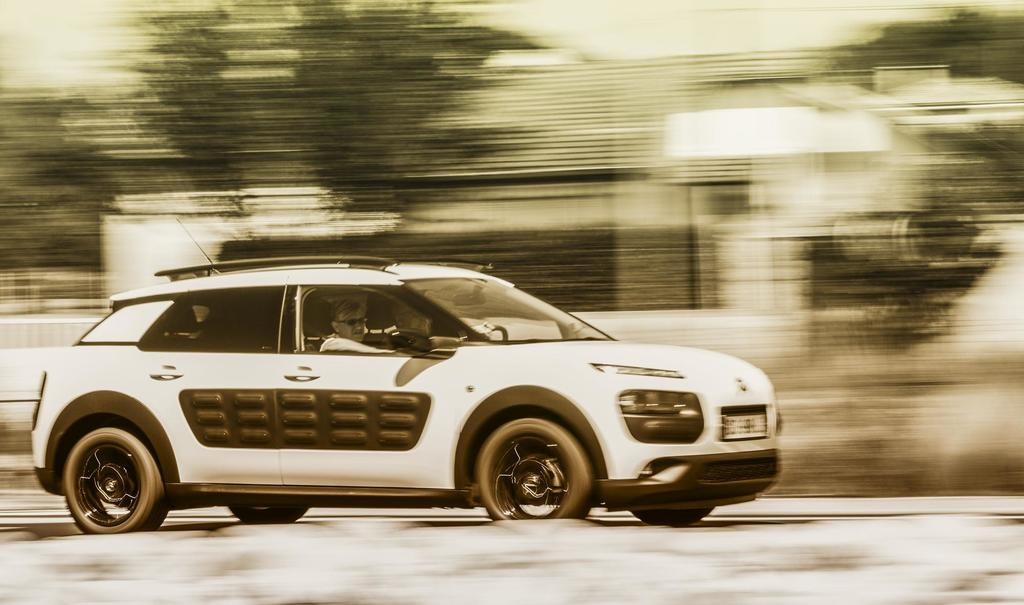Person: (317, 294, 395, 352), (394, 303, 463, 345)
